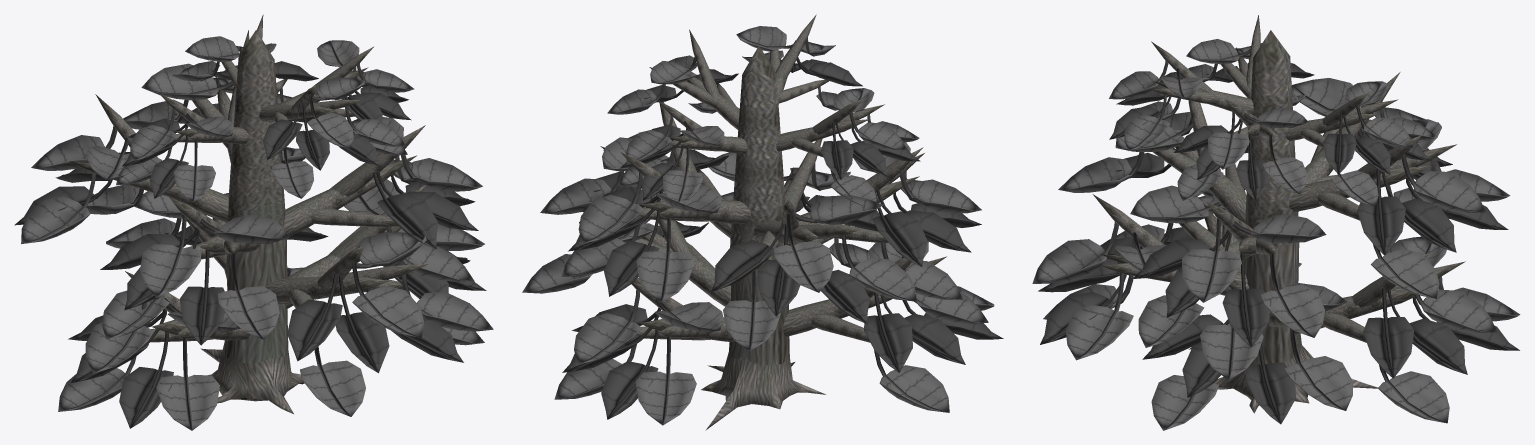
File: Bushv5.dae
The picture shows the model from 3 angles, left to right: view 1: azimuth 30°, elevation 25°; view 2: azimuth 150°, elevation 25°; view 3: azimuth 270°, elevation 25°; orthographic projection. The views are drawn at different scales.
Visible parts, largest first — view 1: Cube_001, Plane_001_000, Plane_001_003, Plane_001_001, Plane_001_006, Plane_001_008, Plane_001_009, Plane_001_004, Plane_001_005, Plane_001_035, Plane_001_007, Plane_001_002 (+1 smaller); view 2: Cube_001, Plane_001_006, Plane_001_002, Plane_001_005, Plane_001_001, Plane_001_003, Plane_001_010, Plane_001_009, Plane_001_004, Plane_001_007, Plane_001_000, Plane_001_008 (+1 smaller); view 3: Cube_001, Plane_001_004, Plane_001_035, Plane_001_000, Plane_001_002, Plane_001_005, Plane_001_007, Plane_001_010, Plane_001_008, Plane_001_003, Plane_001_001, Plane_001_006 (+1 smaller).
Boxes of the visible parts, x1=… form: Cube_001: x1=14, y1=14, x2=486, y2=428; Plane_001_000: x1=300, y1=232, x2=493, y2=416; Plane_001_003: x1=102, y1=214, x2=288, y2=339; Plane_001_001: x1=58, y1=298, x2=240, y2=430; Plane_001_006: x1=21, y1=125, x2=143, y2=244; Plane_001_008: x1=271, y1=77, x2=405, y2=198; Plane_001_009: x1=116, y1=108, x2=234, y2=202; Plane_001_004: x1=352, y1=117, x2=482, y2=281; Plane_001_005: x1=123, y1=63, x2=305, y2=163; Plane_001_035: x1=344, y1=179, x2=484, y2=345; Plane_001_007: x1=317, y1=40, x2=414, y2=155; Plane_001_002: x1=106, y1=191, x2=304, y2=276; Cube_001: x1=562, y1=14, x2=1003, y2=430; Plane_001_006: x1=723, y1=195, x2=916, y2=351; Plane_001_002: x1=554, y1=289, x2=723, y2=425; Plane_001_005: x1=561, y1=172, x2=721, y2=302; Plane_001_001: x1=868, y1=241, x2=994, y2=412; Plane_001_003: x1=854, y1=140, x2=981, y2=299; Plane_001_010: x1=617, y1=115, x2=724, y2=205; Plane_001_009: x1=830, y1=88, x2=919, y2=206; Plane_001_004: x1=540, y1=133, x2=668, y2=214; Plane_001_007: x1=607, y1=55, x2=716, y2=114; Plane_001_000: x1=707, y1=152, x2=869, y2=267; Plane_001_008: x1=736, y1=26, x2=839, y2=110; Cube_001: x1=1038, y1=15, x2=1519, y2=424; Plane_001_004: x1=1138, y1=213, x2=1326, y2=347; Plane_001_035: x1=1151, y1=283, x2=1352, y2=430; Plane_001_000: x1=1032, y1=221, x2=1166, y2=360; Plane_001_002: x1=1378, y1=236, x2=1520, y2=423; Plane_001_005: x1=1371, y1=119, x2=1510, y2=298; Plane_001_007: x1=1177, y1=107, x2=1308, y2=200; Plane_001_010: x1=1331, y1=81, x2=1435, y2=206; Plane_001_008: x1=1109, y1=60, x2=1202, y2=150; Plane_001_003: x1=1058, y1=112, x2=1244, y2=198; Plane_001_001: x1=1100, y1=185, x2=1301, y2=266; Plane_001_006: x1=1291, y1=78, x2=1449, y2=218.
Size of the model in its own units: 1.27 by 1.28 by 1.04.
3 materials, 3 textured.
